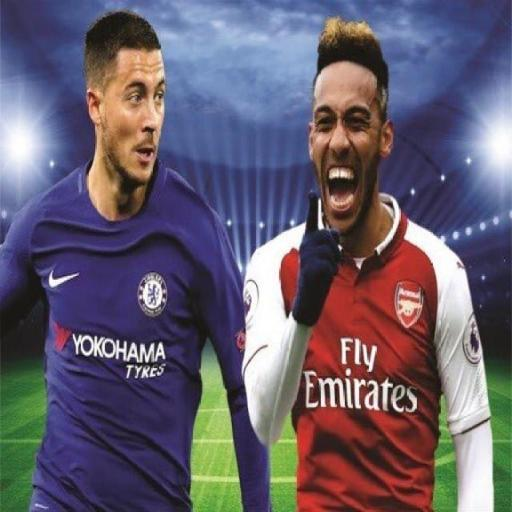Emirates: (300, 332, 420, 414)
